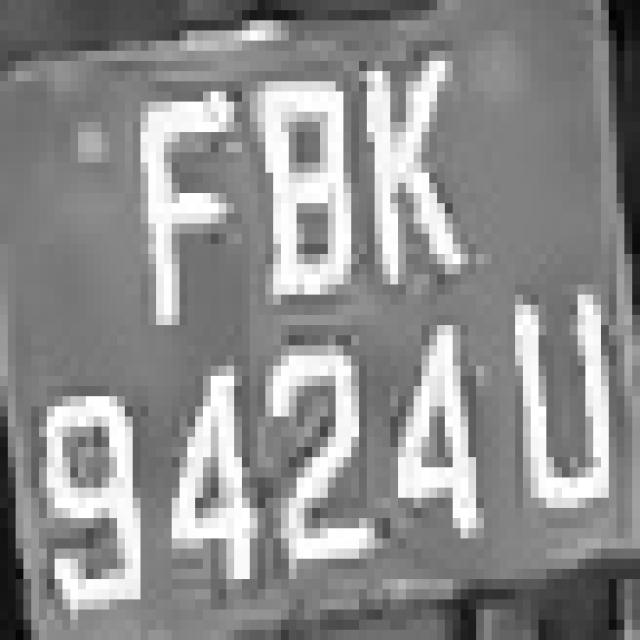2: (258, 315, 382, 599)
4: (374, 294, 500, 600), (148, 356, 273, 620)
9: (32, 366, 148, 630)
B: (242, 51, 367, 315)
F: (125, 81, 234, 356)
K: (344, 30, 468, 305)
U: (508, 254, 632, 538)
